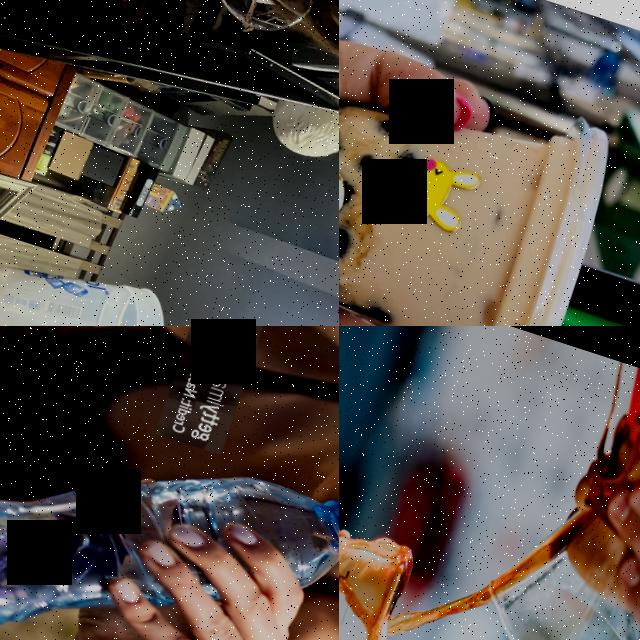bottle: (0, 380, 339, 640)
cup: (339, 24, 623, 326), (0, 217, 179, 326), (339, 511, 414, 640)
